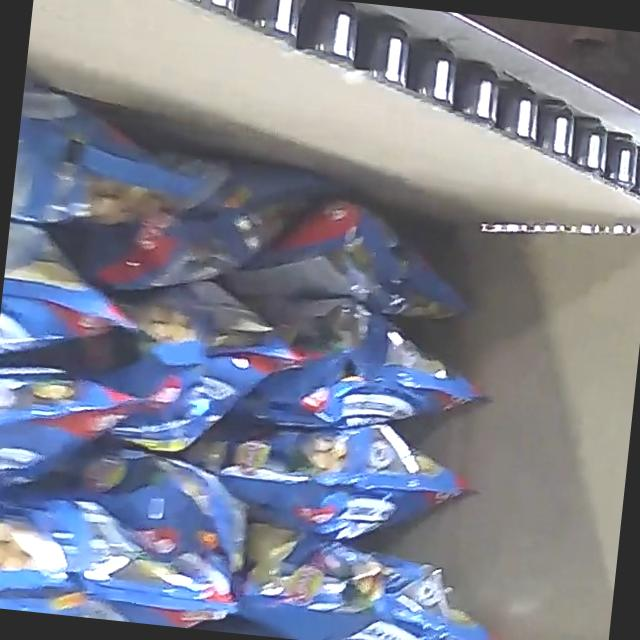paprika: (0, 62, 555, 640)
